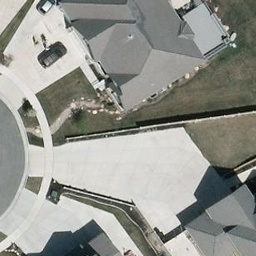car: (39, 40, 68, 70), (30, 1, 64, 20)
